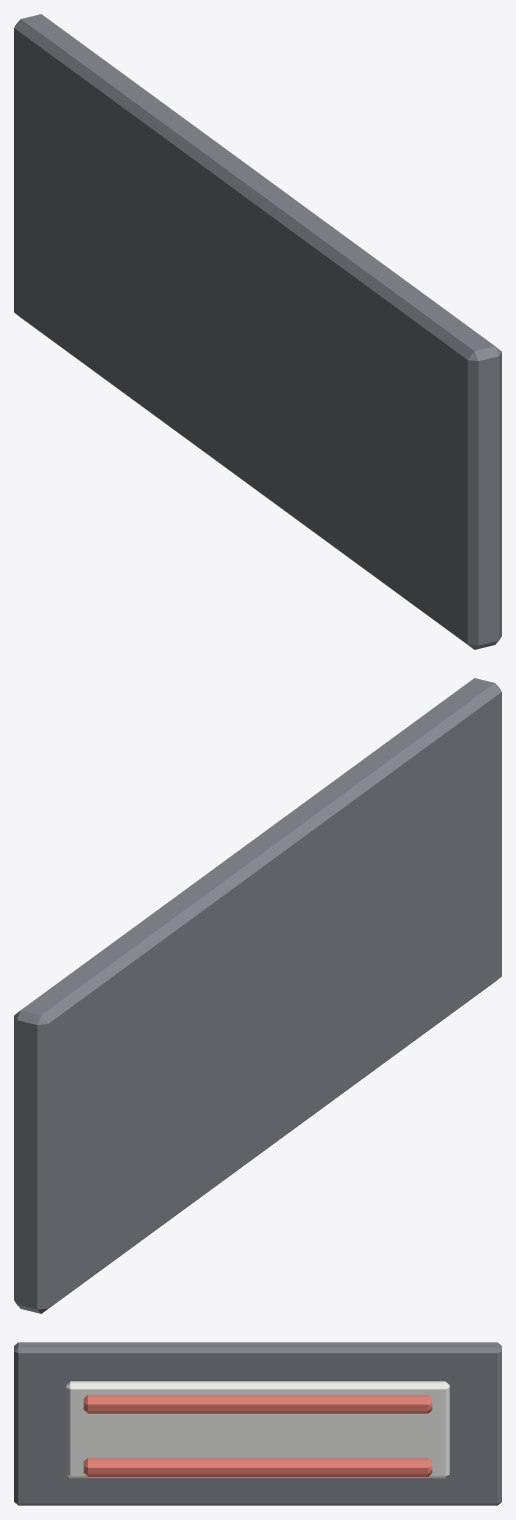
The model's file is 灯具_霓虹招牌_01.fbx.
The picture shows the model from 3 angles, top to bottom: view 1: azimuth 30°, elevation 25°; view 2: azimuth 150°, elevation 25°; view 3: azimuth 270°, elevation 25°; orthographic projection. The views are drawn at different scales.
Parts seen in each view (by area): view 1: 底板.003; view 2: 底板.003; view 3: 底板.003, 字牌, 灯管.
Part boxes in pixels (box(x1,y1,x2,y2)): 底板.003: box(14, 14, 501, 649); 底板.003: box(14, 678, 501, 1313); 底板.003: box(14, 1342, 501, 1505); 字牌: box(66, 1381, 449, 1478); 灯管: box(83, 1394, 432, 1476).
Bounding box in the file's own units: 13.58 × 50 × 140.
